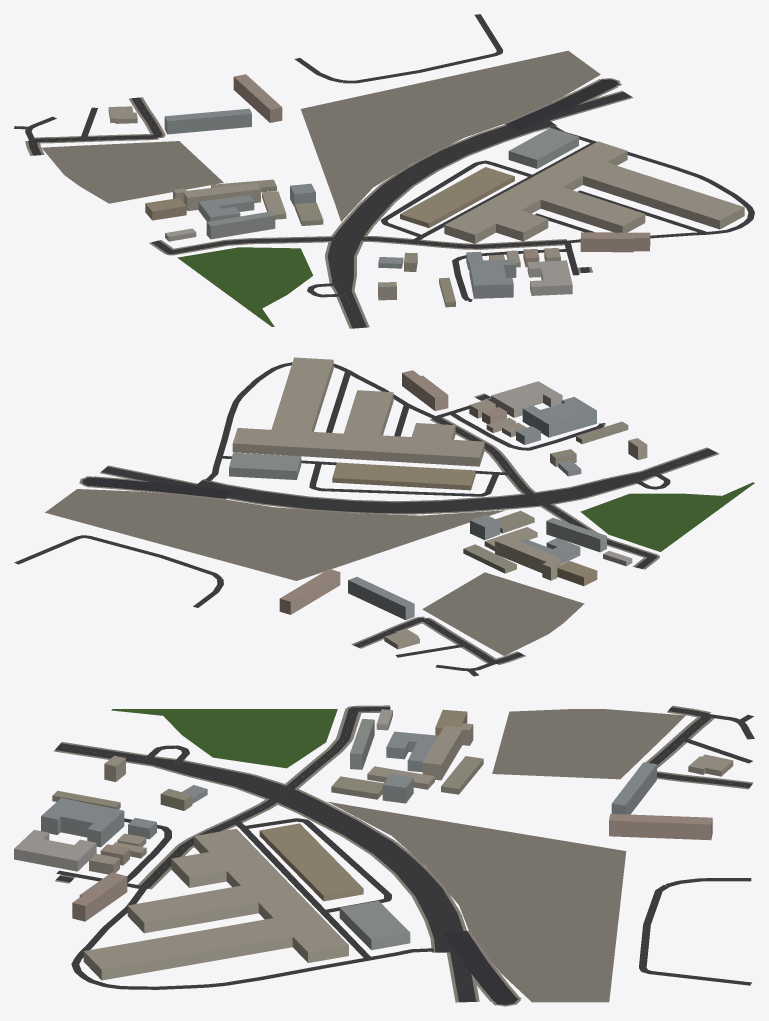
The picture shows the model from 3 angles, top to bottom: view 1: azimuth 30°, elevation 25°; view 2: azimuth 150°, elevation 25°; view 3: azimuth 270°, elevation 25°; orthographic projection. The views are drawn at different scales.
Parts seen in each view (by area): view 1: tile_2_-1; view 2: tile_2_-1; view 3: tile_2_-1.
Part boxes in pixels (left/top/right/bottom): tile_2_-1: left=14, top=14, right=754, bottom=328; tile_2_-1: left=14, top=357, right=754, bottom=676; tile_2_-1: left=14, top=705, right=754, bottom=1006.
Bounding box in the file's own units: 411 × 10 × 427.
